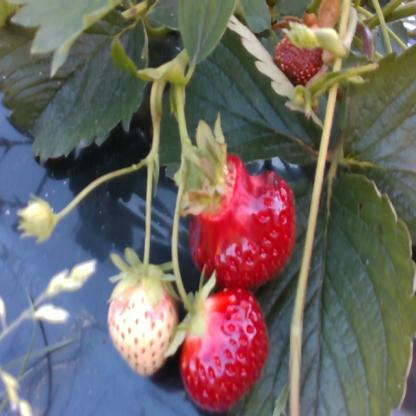ripe: (191, 151, 295, 284), (180, 291, 268, 406), (270, 32, 327, 82)
unripe: (107, 269, 178, 378)
